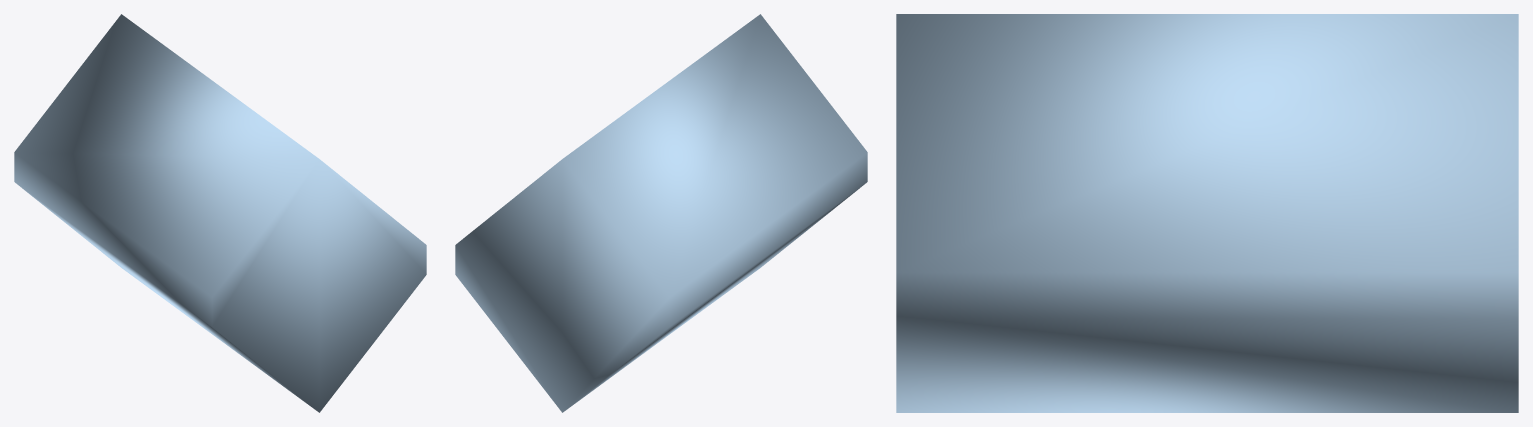
File: plagioclase-albite.glb
The picture shows the model from 3 angles, left to right: view 1: azimuth 30°, elevation 25°; view 2: azimuth 150°, elevation 25°; view 3: azimuth 270°, elevation 25°; orthographic projection. The views are drawn at different scales.
Visible parts, largest first — view 1: plagioclase-albite; view 2: plagioclase-albite; view 3: plagioclase-albite.
Boxes of the visible parts, x1,y1,x2,y2 form: plagioclase-albite: (14,14,426,412); plagioclase-albite: (455,14,867,412); plagioclase-albite: (896,14,1518,412).
Size of the model in its own units: 1 by 1.13 by 1.6.
